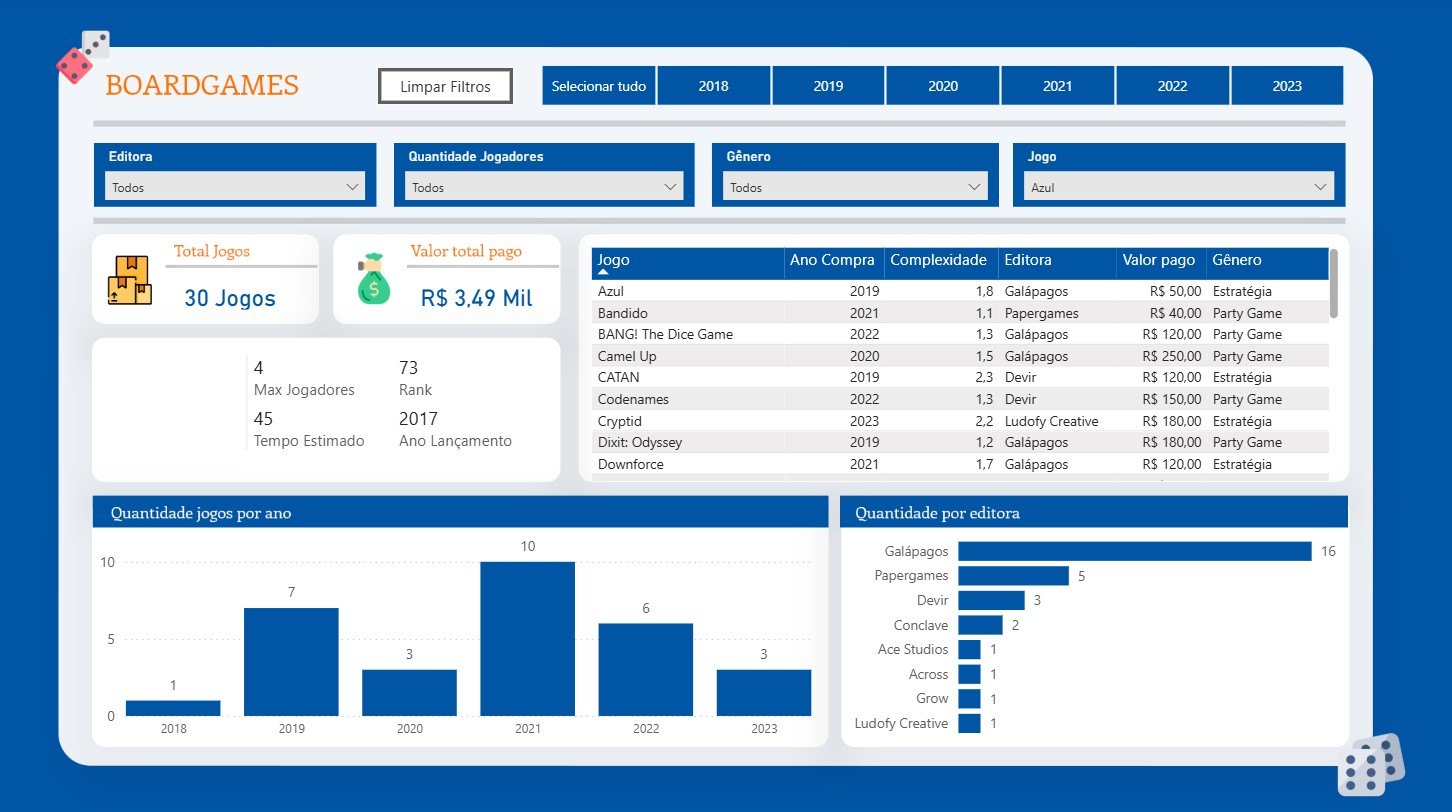

What the dashboard file says about the page in this screenshot:
{"tool":"powerbi","page":{"name":"Página 1","canvas":[1280,720],"ordinal":0},"visuals":[{"type":"slicer","fields":{"Values":["Planilha1.NOME"]},"box":[892.1,127.3,291.5,56.2],"z":0},{"type":"slicer","fields":{"Values":["Planilha1.GENERO"]},"box":[627.8,127.3,252,56.2],"z":1000},{"type":"slicer","fields":{"Values":["Planilha1.QTD_JOGADORES"]},"box":[348.6,127.3,264.3,56.2],"z":2000},{"type":"slicer","fields":{"Values":["Planilha1.EDITORA"]},"box":[85.2,127.3,248.5,56.2],"z":3000},{"type":"actionButton","box":[334.5,61.5,118.5,31.6],"z":4000},{"type":"card","fields":{"Values":["Sum(Planilha1.PREÇO)"]},"box":[360,245.9,122,35.1],"z":5000},{"type":"card","fields":{"Values":["Medidas.QtdJogosConcat"]},"box":[148.4,247.6,112.4,30.7],"z":6000},{"type":"tableEx","fields":{"Values":["Planilha1.NOME","Sum(Planilha1.ANO_COMPRA)","Sum(Planilha1.COMPLEXIDADE)","Planilha1.EDITORA","Sum(Planilha1.PREÇO)","Planilha1.GENERO"]},"box":[516.3,214.2,667.3,214.2],"z":7000},{"type":"columnChart","fields":{"Category":["Planilha1.ANO_COMPRA"],"Y":["Medidas.TotalJogos"]},"box":[85.2,454,634.8,205.5],"z":8000},{"type":"simpleImageEBC4593F96F1425FB3D84C5BF02B5075","fields":{"imageURL":["Planilha1.LINK"]},"box":[88.7,305.6,118.5,114.1],"z":9000},{"type":"image","box":[301.2,214.2,59.7,64.1],"z":10000},{"type":"image","box":[85.2,221.3,63.2,52.7],"z":11000},{"type":"barChart","fields":{"Category":["Planilha1.EDITORA"],"Y":["CountNonNull(Planilha1.EDITORA)"]},"box":[740.2,455.7,443.4,203.7],"z":12000},{"type":"slicer","fields":{"Values":["Planilha1.ANO_COMPRA"]},"box":[453.1,52.7,753.4,48.3],"z":13000},{"type":"multiRowCard","fields":{"Values":["Sum(Planilha1.QTD_JOGADORES)","Sum(Planilha1.RANK)","Sum(Planilha1.TEMPO_ESTIMADO)","Sum(Planilha1.ANO)"]},"box":[213.4,308.2,272.2,114.1],"z":14000},{"type":"image","box":[1170.4,635.7,72.9,75.5],"z":15000},{"type":"image","box":[44.8,23.7,60.6,57.1],"z":16000}]}

Visuals, with their boxes in screenshot pixels (x1, y1, x2, y2), scaled from the page's 1280x720 canvas onto the 1452x812 screenshot:
slicer - Planilha1.NOME: [left=1012, top=144, right=1343, bottom=207]
slicer - Planilha1.GENERO: [left=712, top=144, right=998, bottom=207]
slicer - Planilha1.QTD_JOGADORES: [left=395, top=144, right=695, bottom=207]
slicer - Planilha1.EDITORA: [left=97, top=144, right=379, bottom=207]
actionButton: [left=379, top=69, right=514, bottom=105]
card - Sum(Planilha1.PREÇO): [left=408, top=277, right=547, bottom=317]
card - Medidas.QtdJogosConcat: [left=168, top=279, right=296, bottom=314]
tableEx - Planilha1.NOME x Sum(Planilha1.ANO_COMPRA): [left=586, top=242, right=1343, bottom=483]
columnChart - Planilha1.ANO_COMPRA x Medidas.TotalJogos: [left=97, top=512, right=817, bottom=744]
simpleImageEBC4593F96F1425FB3D84C5BF02B5075 - Planilha1.LINK: [left=101, top=345, right=235, bottom=473]
image: [left=342, top=242, right=409, bottom=314]
image: [left=97, top=250, right=168, bottom=309]
barChart - Planilha1.EDITORA x CountNonNull(Planilha1.EDITORA): [left=840, top=514, right=1343, bottom=744]
slicer - Planilha1.ANO_COMPRA: [left=514, top=59, right=1369, bottom=114]
multiRowCard - Sum(Planilha1.QTD_JOGADORES) x Sum(Planilha1.RANK): [left=242, top=348, right=551, bottom=476]
image: [left=1328, top=717, right=1410, bottom=802]
image: [left=51, top=27, right=120, bottom=91]
